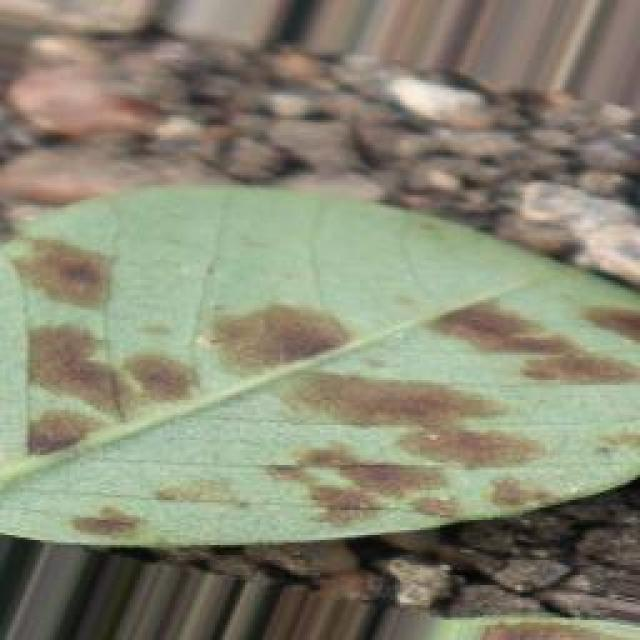Whitefly: (0, 160, 640, 586)
